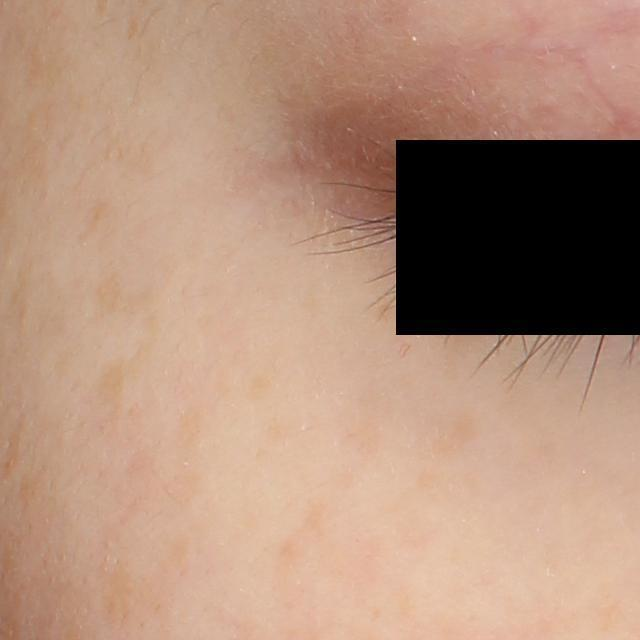melasma: (381, 473, 456, 552), (436, 291, 500, 354), (332, 404, 385, 461), (95, 273, 159, 320), (424, 414, 481, 459), (173, 400, 212, 457), (359, 295, 404, 327), (250, 372, 279, 399)
